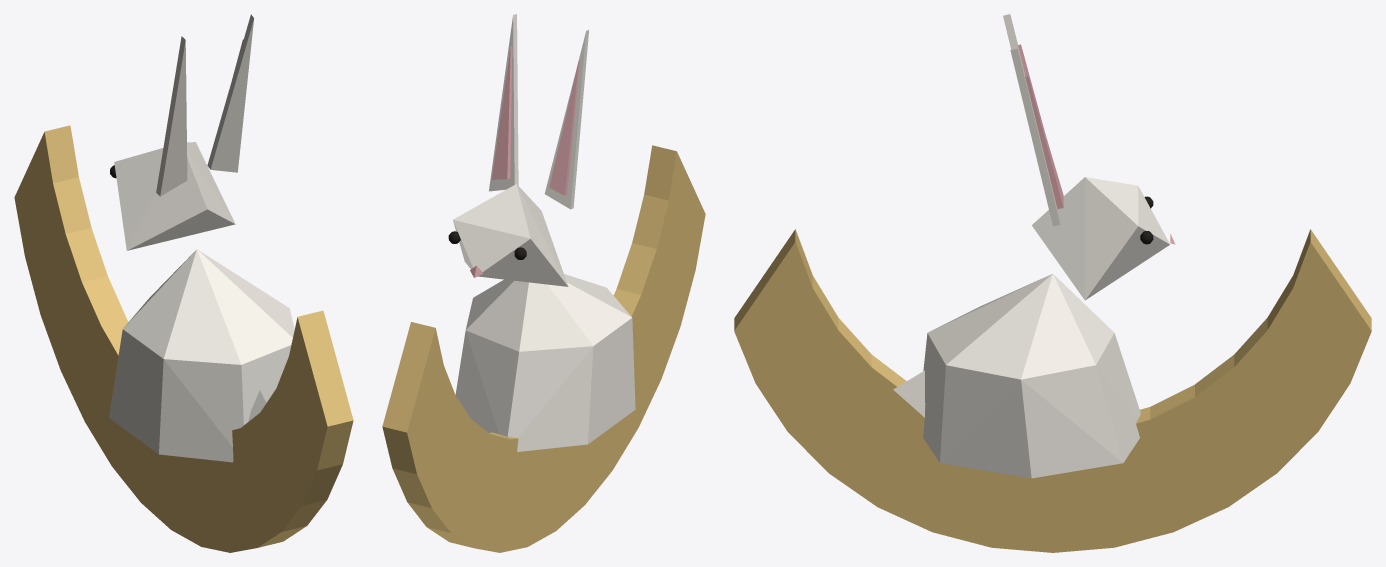
Rendered from perch_moon_rabbit.glb.
3 views of the same model, side by side, from view 1: azimuth 30°, elevation 25°; view 2: azimuth 150°, elevation 25°; view 3: azimuth 270°, elevation 25° (orthographic). The views are drawn at different scales.
Visible parts, largest first — view 1: body, head; view 2: body, head; view 3: body, head.
Part boxes in pixels (x1,y1,x2,y2): body: (14,125,353,552); head: (109,14,294,462); body: (382,145,705,552); head: (448,14,635,451); body: (734,229,1371,552); head: (893,14,1175,478).
Bounding box in the file's own units: 0.1078 × 0.3406 × 0.3767.
